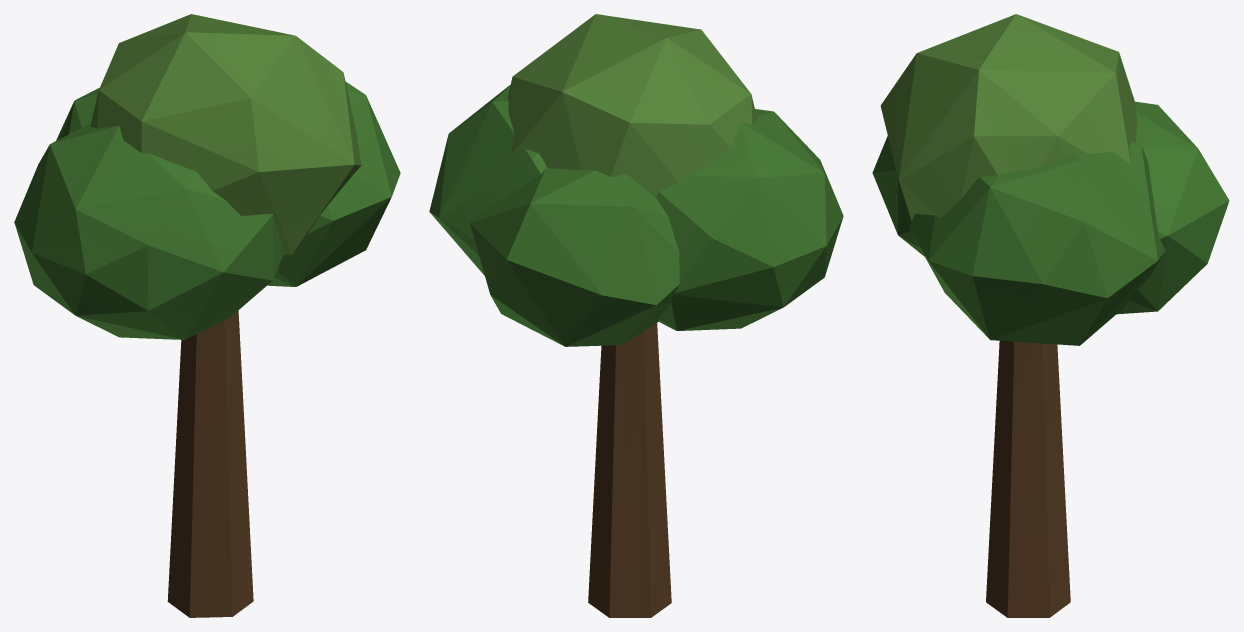
Rendered from prop_broadleaf_lod1.glb.
The picture shows the model from 3 angles, left to right: view 1: azimuth 30°, elevation 25°; view 2: azimuth 150°, elevation 25°; view 3: azimuth 270°, elevation 25°; orthographic projection. The views are drawn at different scales.
Visible parts, largest first — view 1: prop_broadleaf_lod1; view 2: prop_broadleaf_lod1; view 3: prop_broadleaf_lod1.
Part boxes in pixels (x1,y1,x2,y2): prop_broadleaf_lod1: (14,14,400,617); prop_broadleaf_lod1: (429,14,843,617); prop_broadleaf_lod1: (872,14,1229,617).
Bounding box in the file's own units: 3.45 × 5.2 × 2.93.
